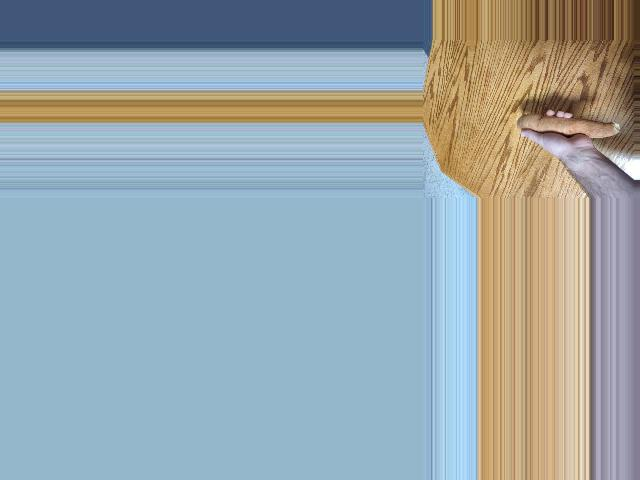sweet_potato: (516, 112, 623, 146)
